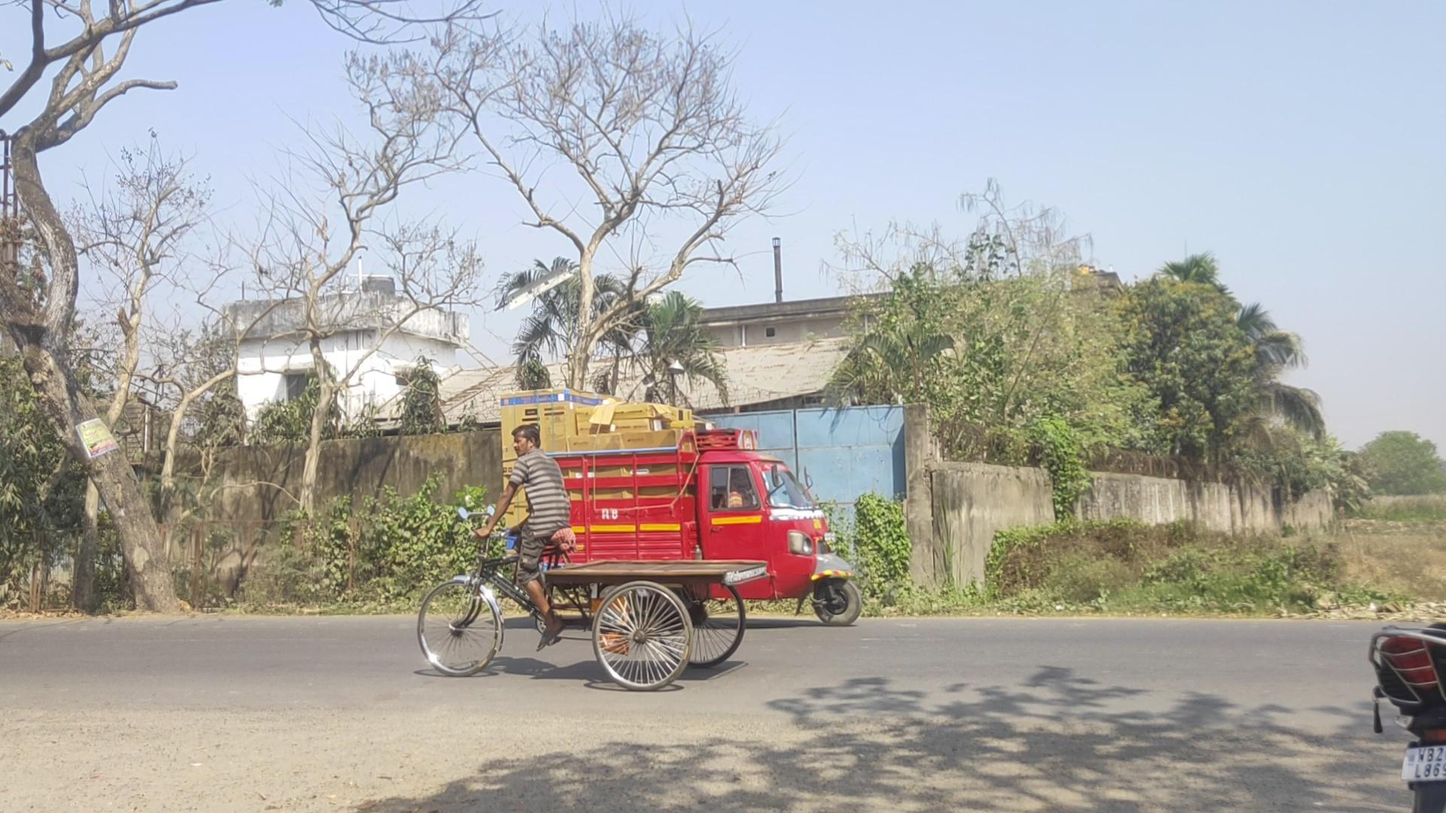Auto: (417, 425, 768, 692)
van: (499, 388, 862, 630)
